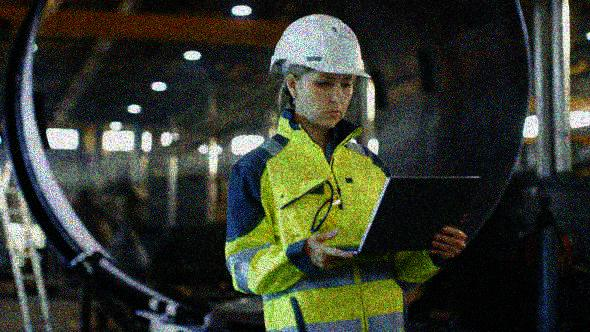helmet: (271, 13, 373, 126)
